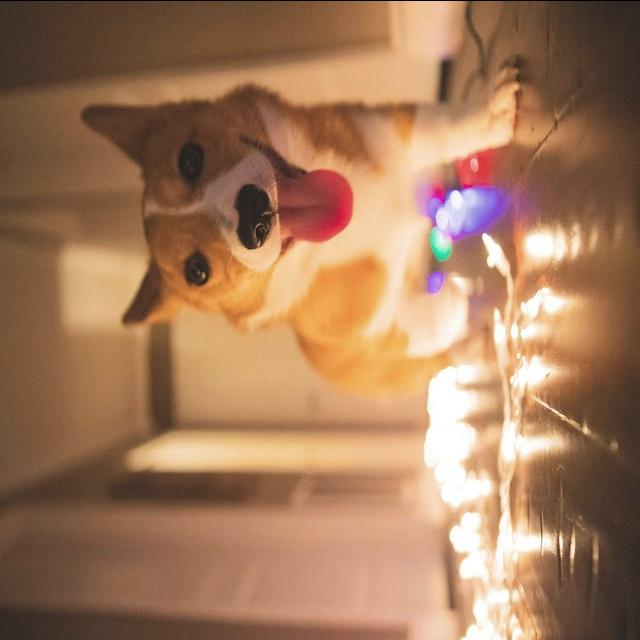corgi: (78, 59, 521, 399)
